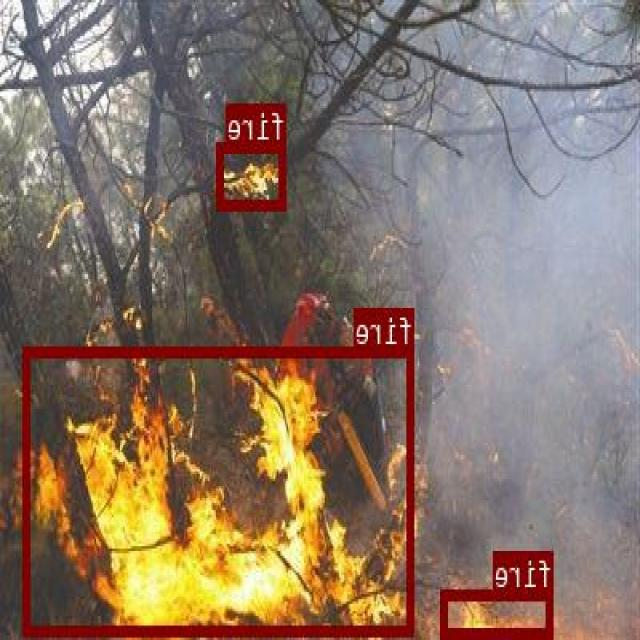fire: (25, 344, 414, 634), (442, 589, 554, 637), (218, 142, 288, 209)
